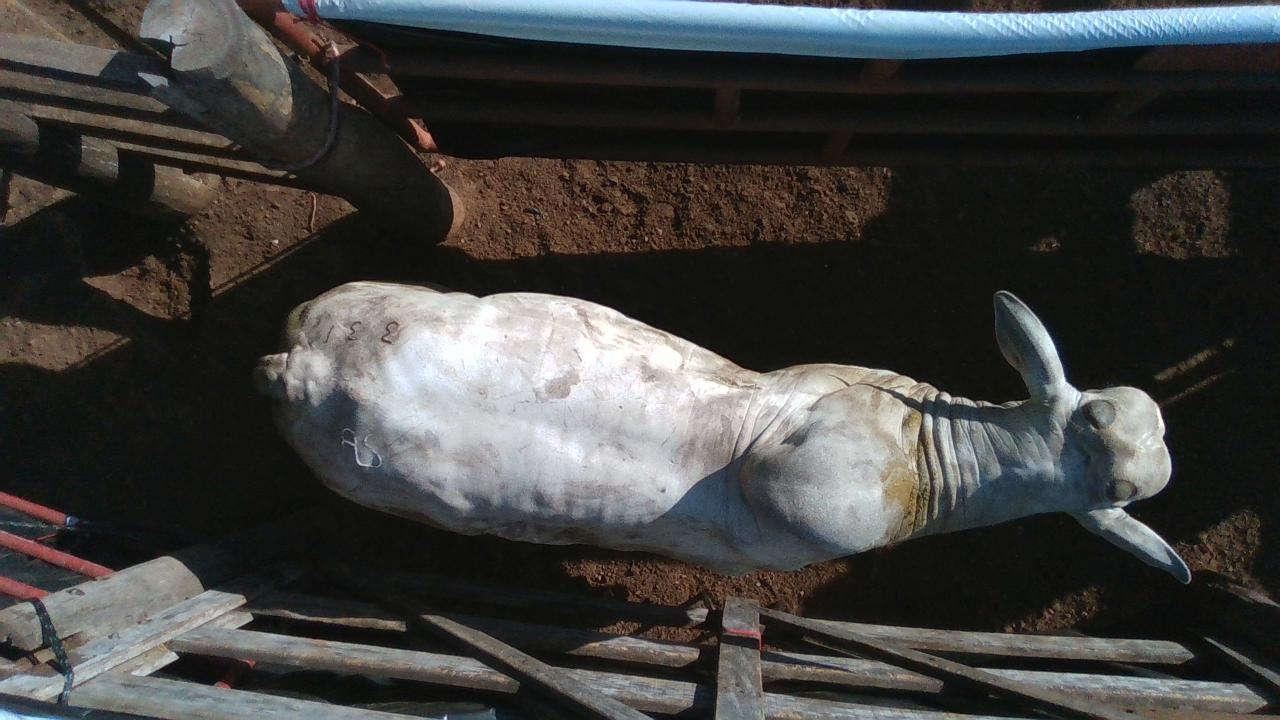cattle: (252, 277, 1194, 586)
